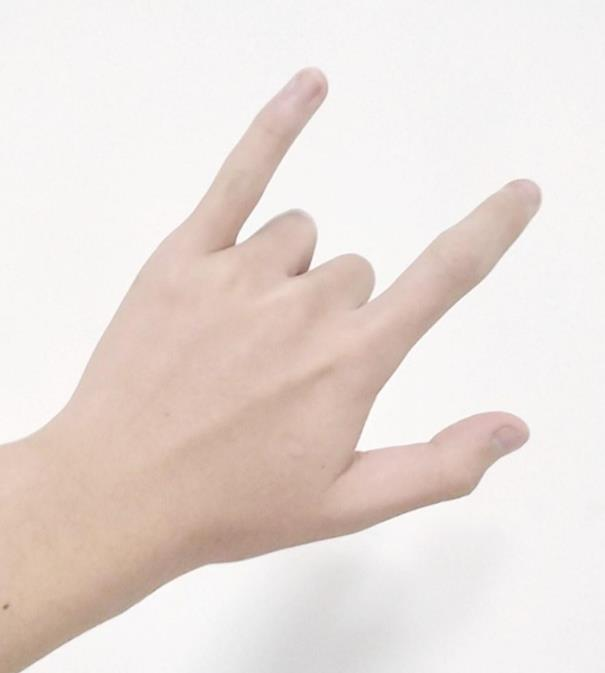back: (80, 59, 548, 570)
